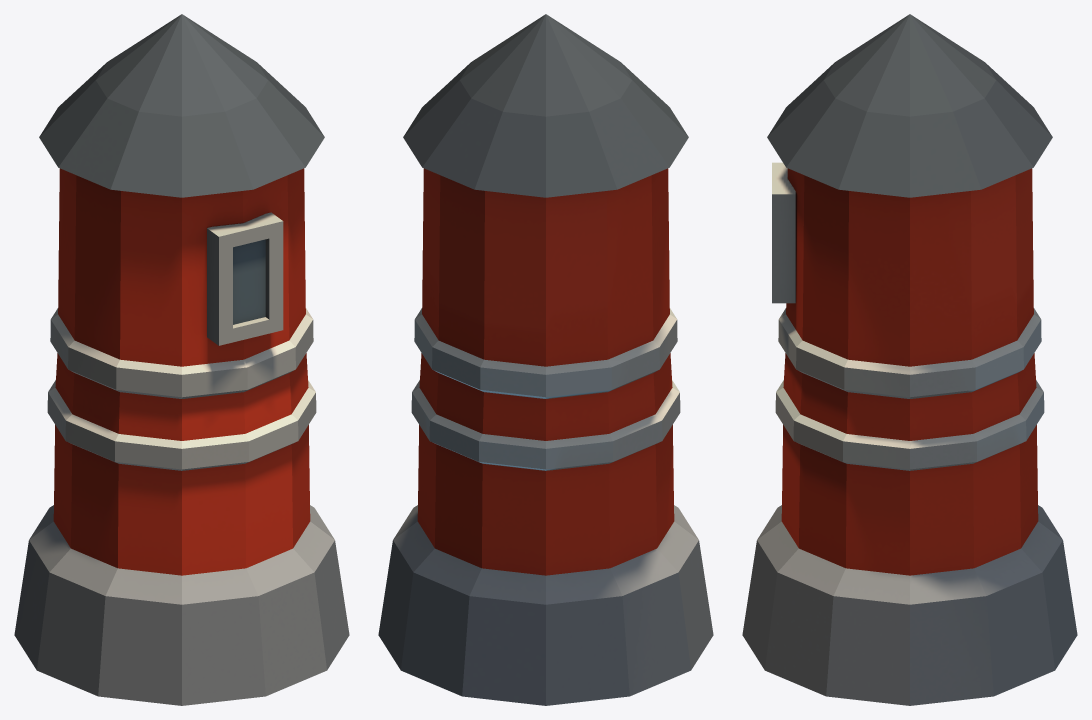
File: PUSHILIN_silo.gltf
3 views of the same model, side by side, from view 1: azimuth 30°, elevation 25°; view 2: azimuth 150°, elevation 25°; view 3: azimuth 270°, elevation 25° (orthographic).
Visible parts, largest first — view 1: node-0; view 2: node-0; view 3: node-0.
Boxes of the visible parts, bbox=[...] form: node-0: bbox=[14, 14, 349, 705]; node-0: bbox=[378, 14, 713, 705]; node-0: bbox=[742, 14, 1077, 705].
Bounding box in the file's own units: 1.13 × 2.3 × 1.13.
1 material, 1 textured.
